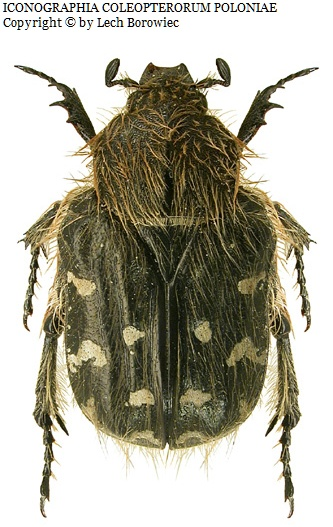Tropinota_hirta: (6, 39, 332, 527)
